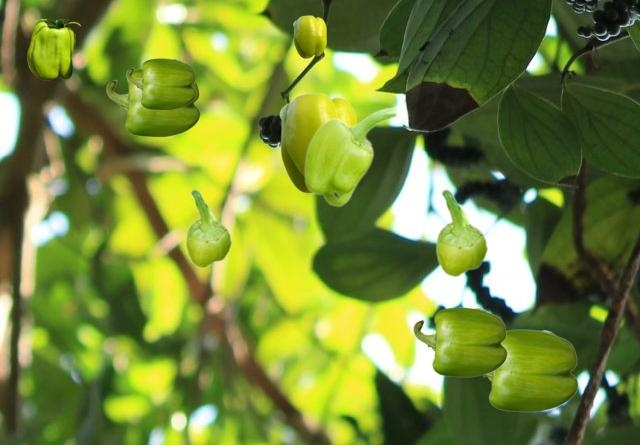bell_pepper: (303, 106, 398, 206), (482, 329, 577, 411), (279, 92, 356, 192), (413, 307, 506, 376), (106, 67, 199, 136), (435, 189, 487, 276), (185, 189, 231, 267), (126, 58, 195, 109), (27, 19, 79, 79), (293, 15, 325, 57)
